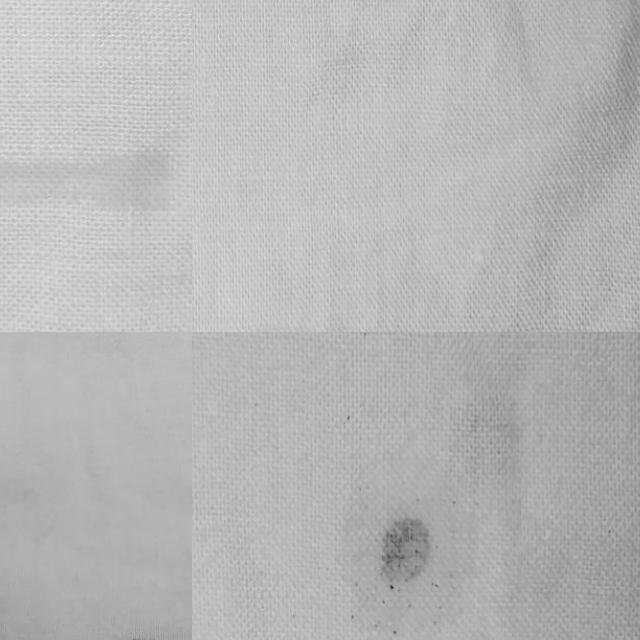Hole: (332, 488, 460, 626)
